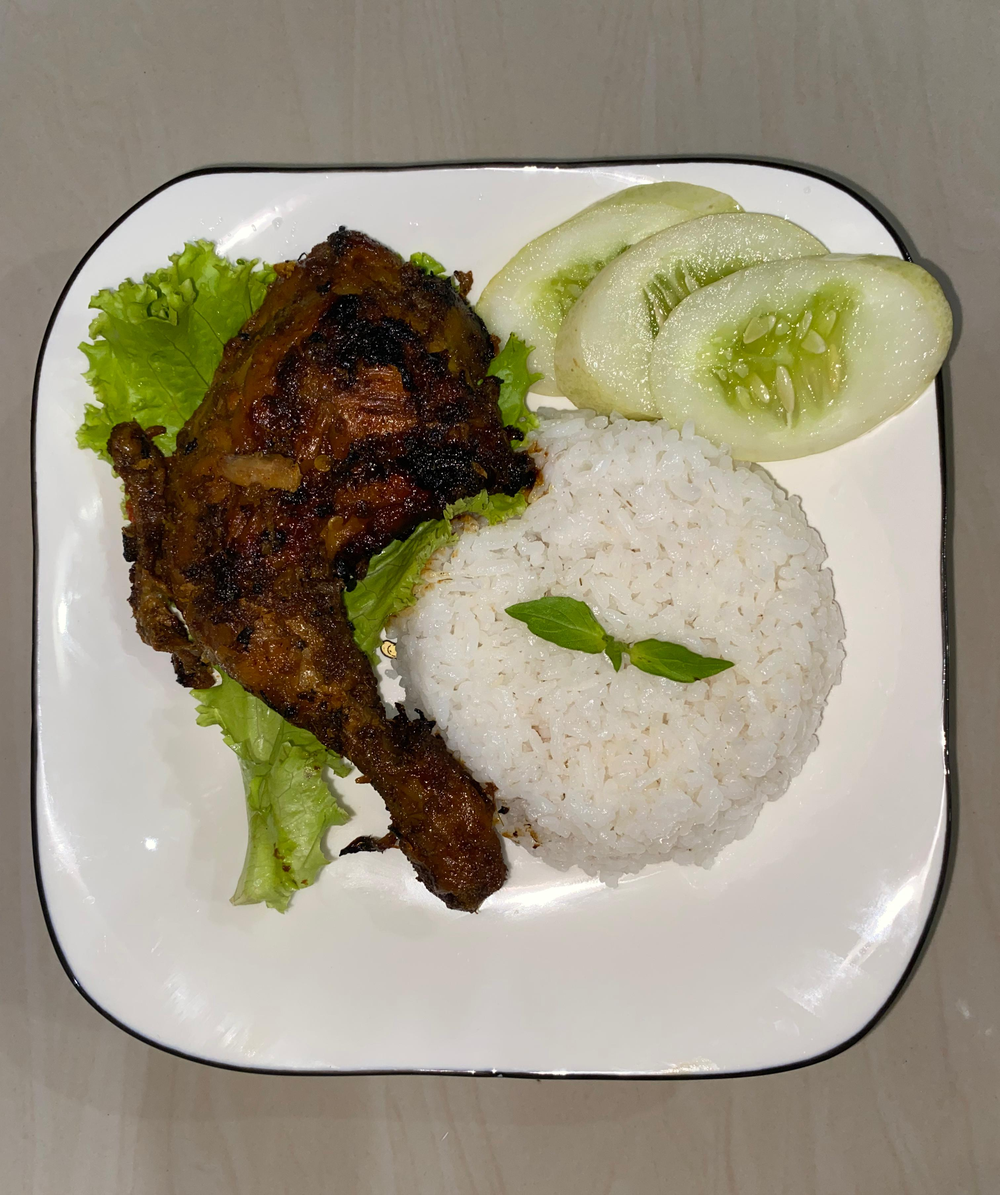buah_sayur_lainnya: (498, 203, 954, 481)
daging: (21, 180, 483, 908)
makanan_berpati: (524, 486, 810, 868)
